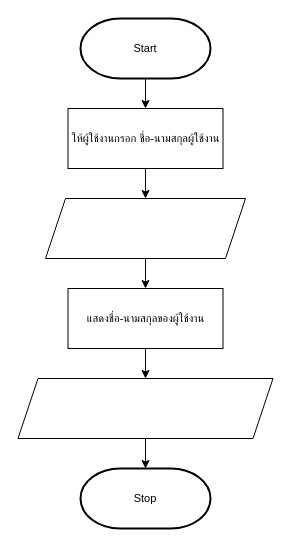
Some shapes in this 290 by 546 pixel diagram are drawn without their labels. Here are the shapes that lost their labels. From the top down, the box of each, then its label:
(44, 198, 246, 258): รับข้อมูล ชื่อ-นามสกุล จากผู้ใช้งาน
(17, 378, 273, 438): Aomsin AomMoneys TC, RMUTL, Chiang Mai, Thailand
